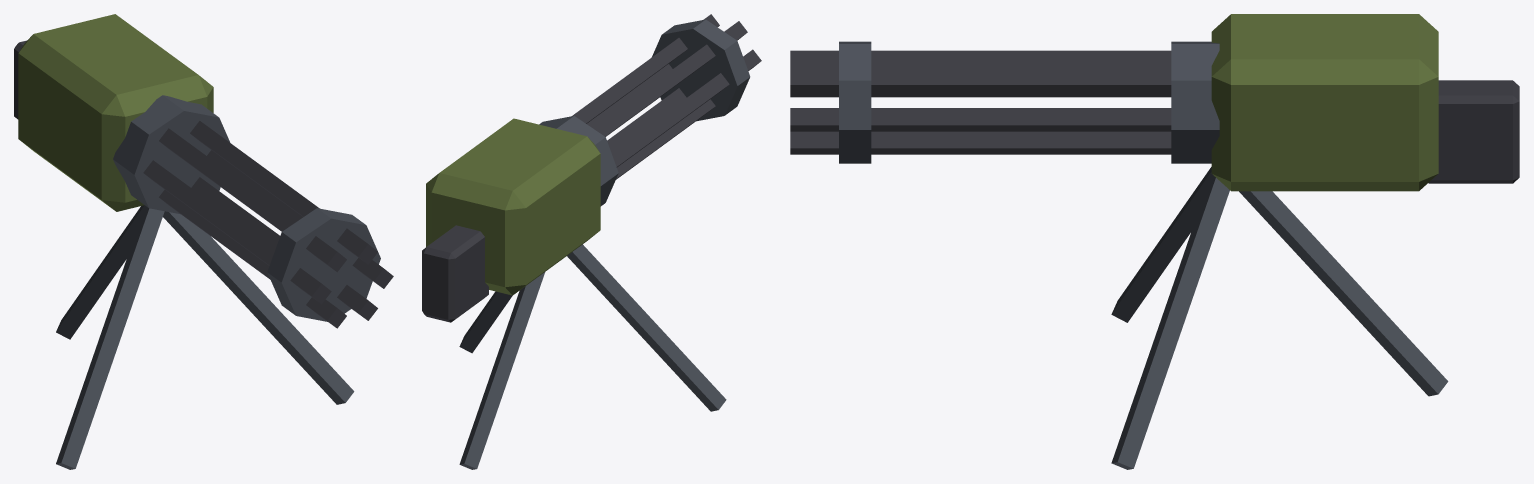
File: GatlingGun.fbx
3 renders of one model, left to right at view 1: azimuth 30°, elevation 25°; view 2: azimuth 150°, elevation 25°; view 3: azimuth 270°, elevation 25°, orthographic. The views are drawn at different scales.
Parts seen in each view (by area): view 1: GatlingGun_Gun, GatlingGun_Barrels, GatlingGun; view 2: GatlingGun_Gun, GatlingGun_Barrels, GatlingGun; view 3: GatlingGun_Gun, GatlingGun_Barrels, GatlingGun.
Boxes of the visible parts, x1,y1,x2,y2 form: GatlingGun_Gun: [14, 14, 230, 214]; GatlingGun_Barrels: [143, 121, 393, 328]; GatlingGun: [56, 205, 354, 469]; GatlingGun_Gun: [422, 116, 618, 322]; GatlingGun_Barrels: [572, 14, 761, 179]; GatlingGun: [459, 244, 726, 469]; GatlingGun_Gun: [1171, 14, 1519, 191]; GatlingGun_Barrels: [790, 41, 1171, 163]; GatlingGun: [1111, 167, 1448, 469].
Bounding box in the file's own units: 2.36 × 2.45 × 4.5.
Materials: 1 (1 with a texture image).
